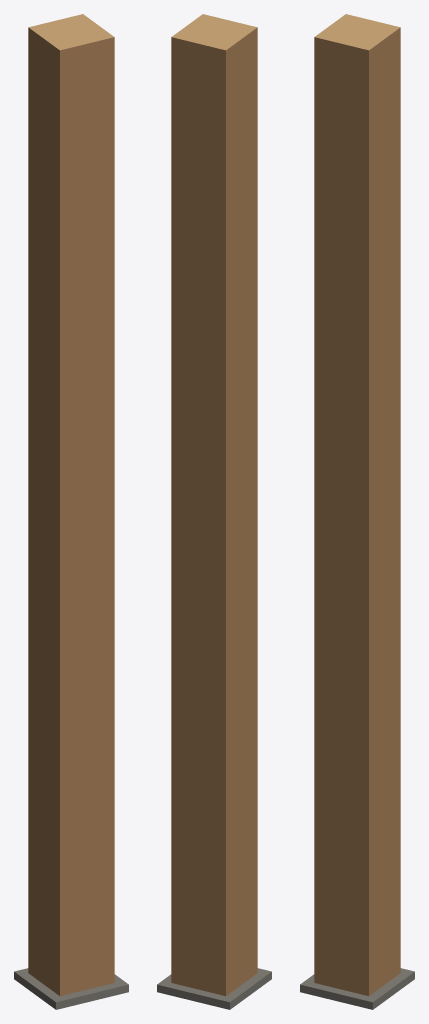
The model's file is sakura_pillar_post.glb.
3 views of the same model, side by side, from view 1: azimuth 30°, elevation 25°; view 2: azimuth 150°, elevation 25°; view 3: azimuth 330°, elevation 25° (orthographic).
Visible parts, largest first — view 1: sakura_pillar_post; view 2: sakura_pillar_post; view 3: sakura_pillar_post.
Part boxes in pixels (x1,y1,x2,y2): sakura_pillar_post: (14, 14, 128, 1009); sakura_pillar_post: (157, 14, 271, 1009); sakura_pillar_post: (300, 14, 414, 1009).
Bounding box in the file's own units: 0.2 × 2.5 × 0.2.
1 material, 1 textured.
